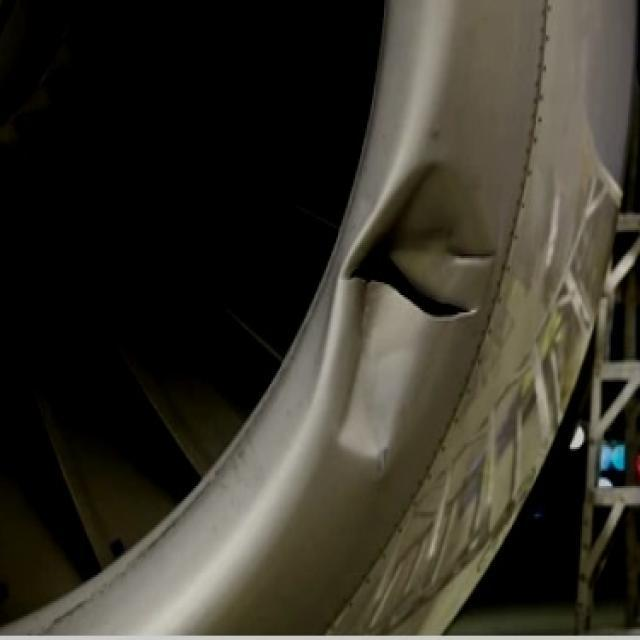crack: (336, 242, 494, 329)
dent: (337, 151, 501, 475)
